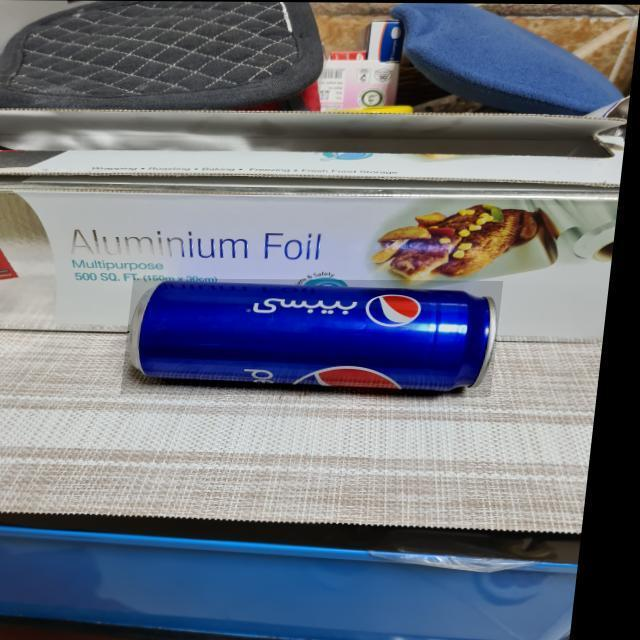trash: (130, 276, 497, 400)
